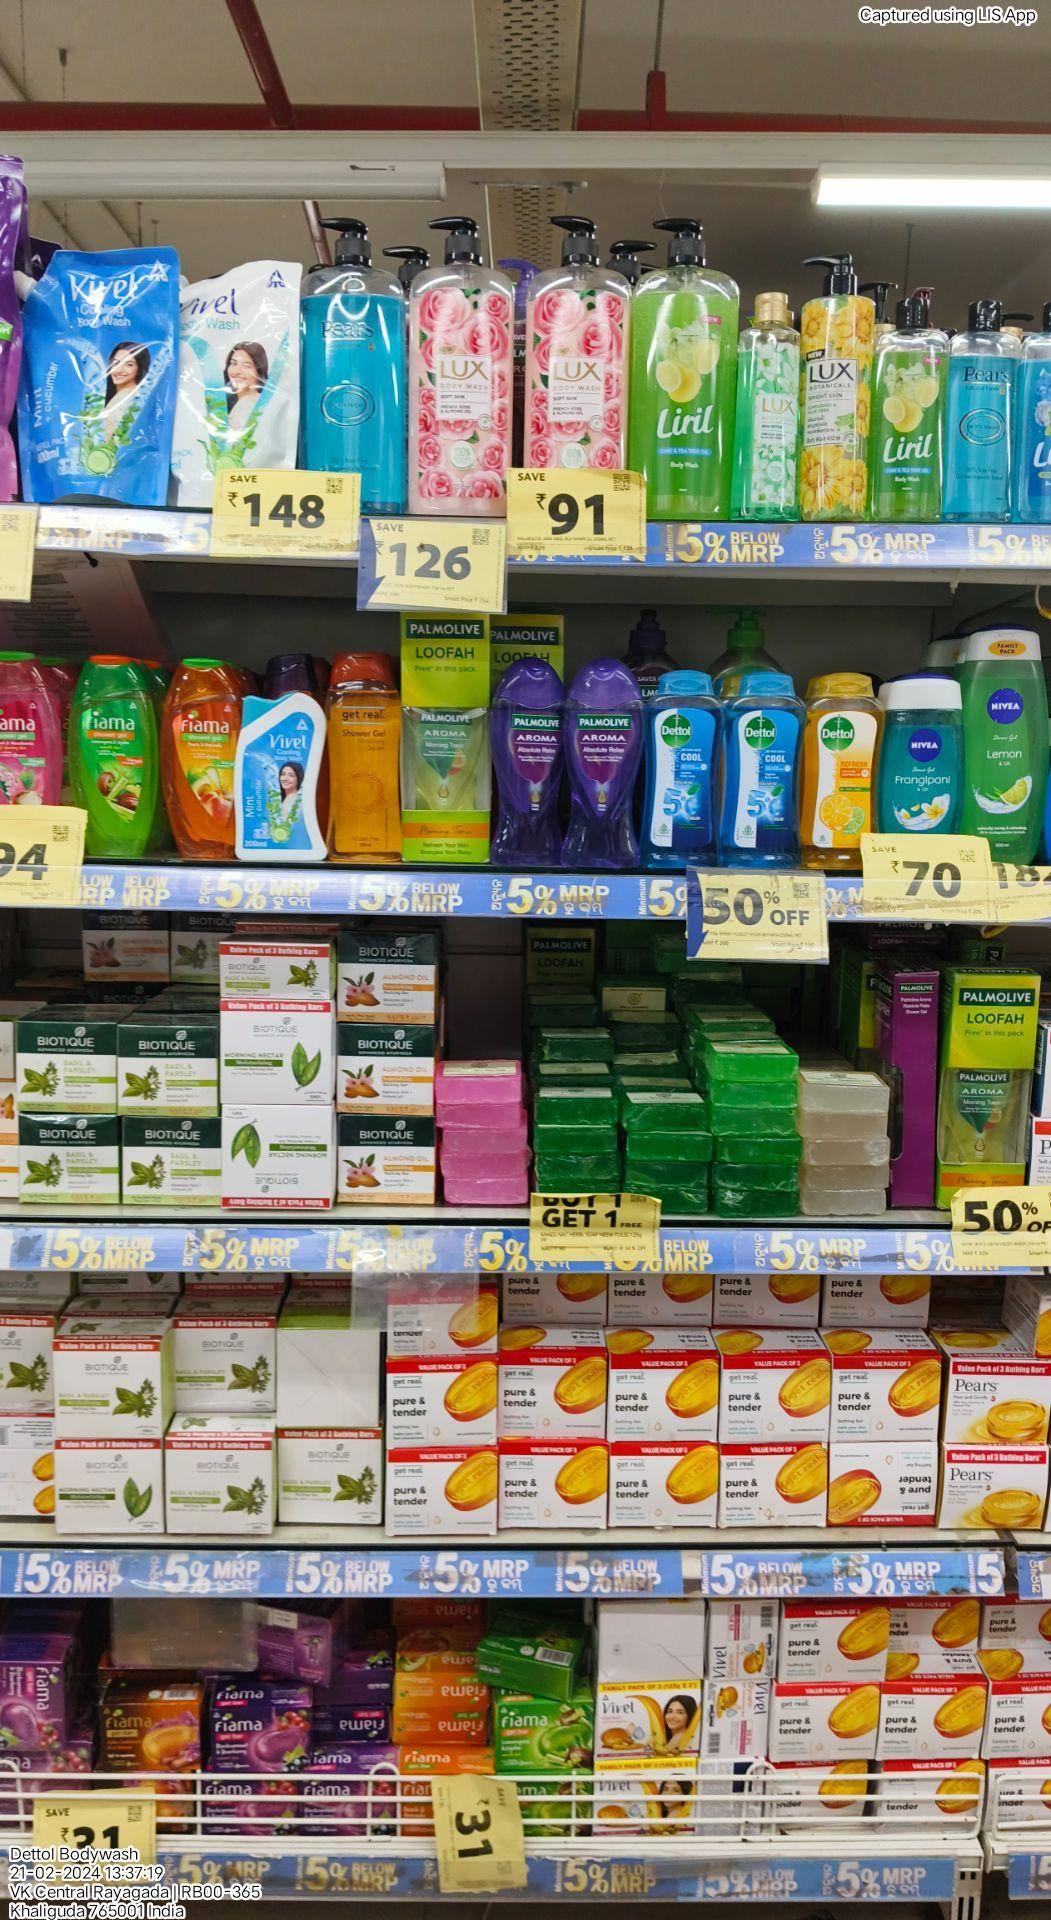Dettol_Bodywash_Cool: (720, 668, 808, 871), (646, 668, 721, 862)
Dettol_Bodywash_Refresh: (806, 670, 885, 867)
Fiama_Shower_Gel_Lemongrass_and_Jojoba_250ML: (67, 653, 158, 859)
Fiama_Shower_Gel_Peach_and_Avocado_250ML: (158, 653, 236, 855)
Get_Real_Shower_Gel_Moisturising_Glycerin_300ML: (324, 649, 399, 864)
Liril_Lime_and_Tea_Tree_Oil_Body_Wash_250ML: (874, 295, 951, 521)
Lux_Body_Wash_Skin_Detox_Freesia_Scent_and_Alove_Vera_245ML: (736, 289, 804, 521)
Nivea_Shower_Gel_Frangipani_and_Oil_250ML: (883, 671, 966, 831)
Nivea_Shower_Gel_Lemon_and_Oil_250ML: (964, 624, 1048, 864)
Palmolive_Aroma_Relax_250ML: (564, 657, 646, 866), (488, 657, 563, 864)
Pears_Pure_Glycerin_and_Mint_Extracts_Body_Wash_250ML: (949, 294, 1021, 519)
